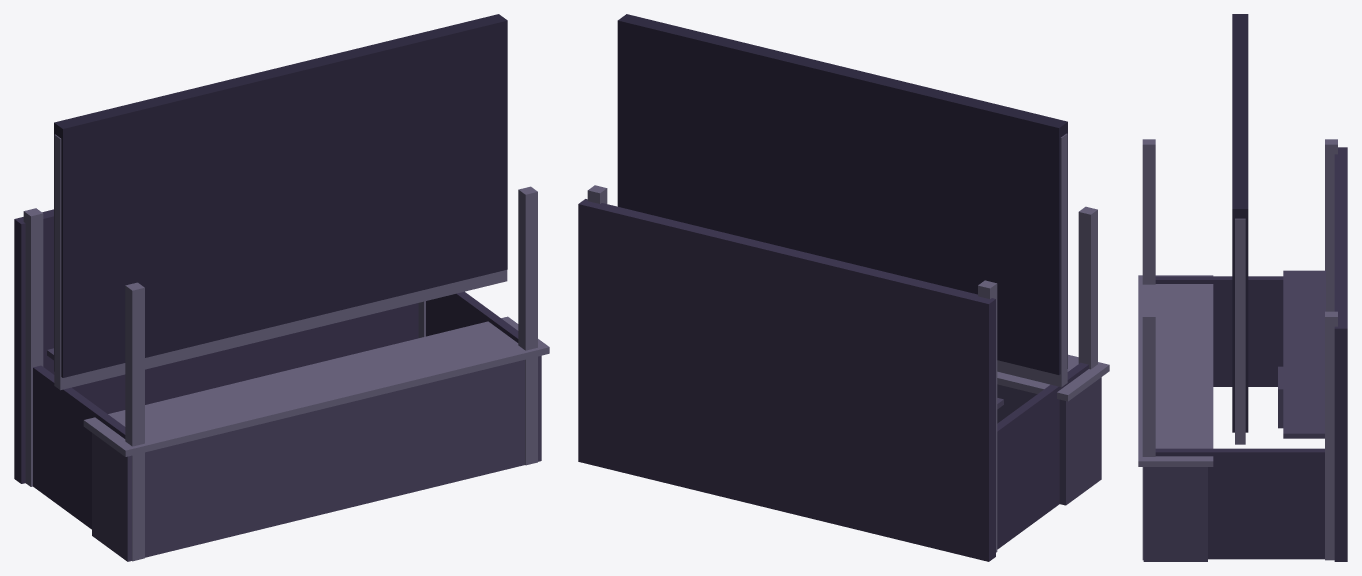
Rendered from sponsor-booth.glb.
3 renders of one model, left to right at view 1: azimuth 30°, elevation 25°; view 2: azimuth 150°, elevation 25°; view 3: azimuth 270°, elevation 25°, orthographic. The views are drawn at different scales.
Visible parts, largest first — view 1: canopy, counter, countertop, backpanel, sidepanel, canopytrim, post_f, post_f.001, post_b, sidepanel.001; view 2: backpanel, canopy, sidepanel, counter, post_f, canopytrim, countertop, post_b; view 3: sidepanel.001, countertop, shelf_in, sidepanel, counter, backpanel, canopy, post_b.001, canopytrim, post_f.001, post_f, post_b (+1 smaller).
Boxes of the visible parts, x1,y1,x2,y2 form: canopy: (54, 14, 507, 377); counter: (92, 355, 541, 561); countertop: (83, 316, 549, 456); backpanel: (14, 209, 418, 483); sidepanel: (33, 365, 125, 529); canopytrim: (54, 134, 507, 390); post_f: (125, 282, 144, 561); post_f.001: (518, 186, 537, 465); post_b: (23, 208, 43, 486); sidepanel.001: (426, 291, 518, 342); backpanel: (578, 199, 995, 561); canopy: (617, 14, 1067, 374); sidepanel: (997, 362, 1088, 549); counter: (997, 377, 1101, 505); post_f: (1078, 206, 1097, 369); canopytrim: (997, 133, 1067, 387); countertop: (997, 354, 1109, 401); post_b: (978, 280, 997, 552); sidepanel.001: (1155, 448, 1324, 559); countertop: (1138, 275, 1213, 466); shelf_in: (1283, 270, 1325, 438); sidepanel: (1155, 276, 1283, 386); counter: (1143, 467, 1207, 561); backpanel: (1334, 147, 1347, 561); canopy: (1232, 14, 1248, 432); post_b.001: (1325, 311, 1337, 560); canopytrim: (1235, 218, 1245, 444); post_f.001: (1142, 311, 1155, 560); post_f: (1142, 139, 1155, 284); post_b: (1325, 139, 1337, 311).
Size of the model in its own units: 4.32 by 3.7 by 1.95.
